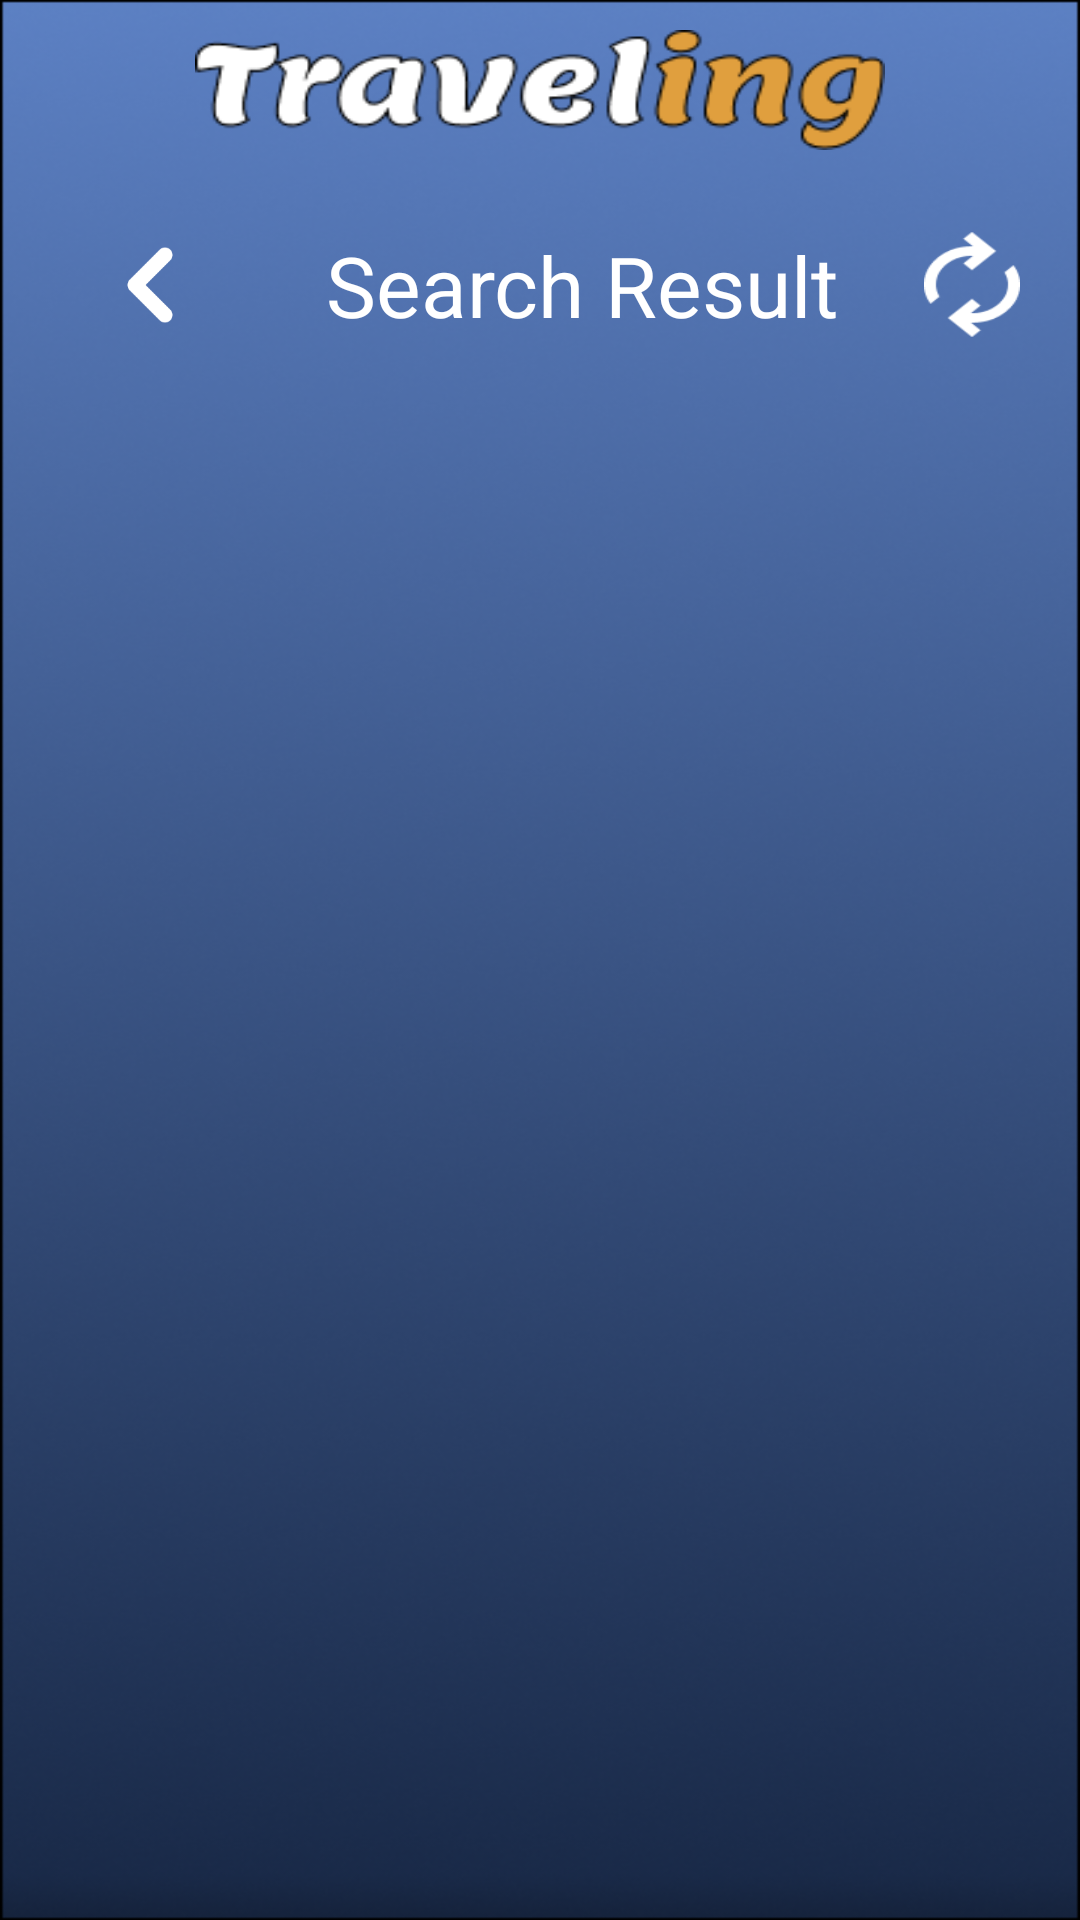

Icons on this 1080w x 1920h Android screen, each with its box as (x1, y1, x2, y2):
chevron left: (127, 247, 173, 323)
reload: (924, 232, 1020, 337)
